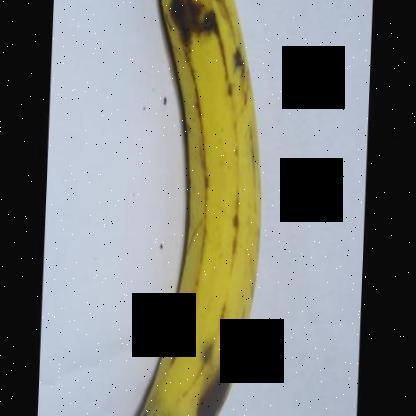ripe: (115, 0, 294, 415)
